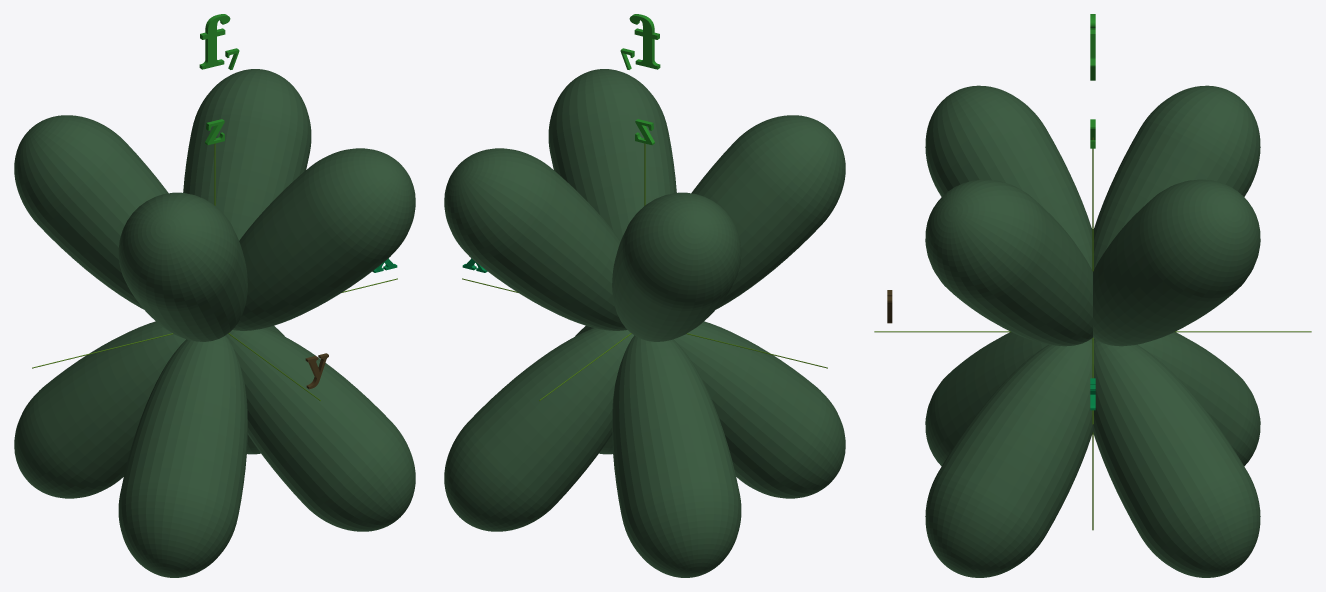
The picture shows the model from 3 angles, left to right: view 1: azimuth 30°, elevation 25°; view 2: azimuth 150°, elevation 25°; view 3: azimuth 270°, elevation 25°; orthographic projection. The views are drawn at different scales.
Parts seen in each view (by area): view 1: Mesh_Mesh_head_geo001_lambert2SG001; view 2: Mesh_Mesh_head_geo001_lambert2SG001; view 3: Mesh_Mesh_head_geo001_lambert2SG001.
Part boxes in pixels (left/top/right/bottom): Mesh_Mesh_head_geo001_lambert2SG001: left=14, top=14, right=415, bottom=577; Mesh_Mesh_head_geo001_lambert2SG001: left=444, top=14, right=845, bottom=577; Mesh_Mesh_head_geo001_lambert2SG001: left=874, top=14, right=1311, bottom=577.
Size of the model in its own units: 84 by 109 by 84.
